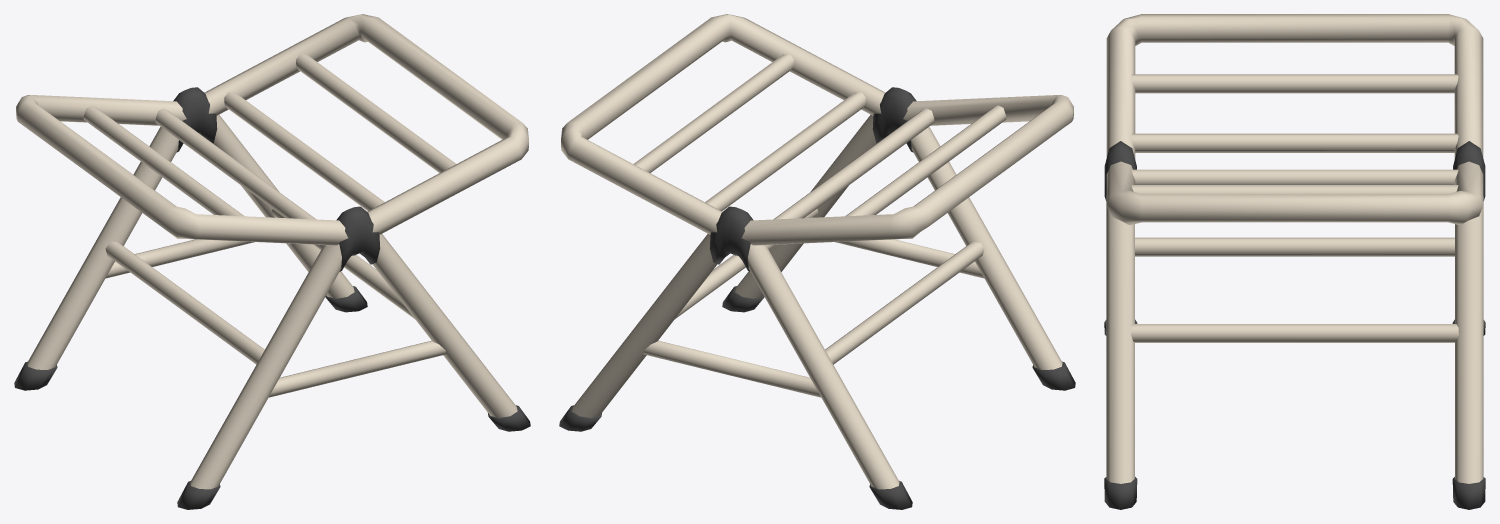
The model's file is MDL_DryingRack.fbx.
3 views of the same model, side by side, from view 1: azimuth 30°, elevation 25°; view 2: azimuth 150°, elevation 25°; view 3: azimuth 270°, elevation 25° (orthographic). The views are drawn at different scales.
Visible parts, largest first — view 1: Cylinder; view 2: Cylinder; view 3: Cylinder.
Part boxes in pixels (x1,y1,x2,y2): Cylinder: (14, 14, 530, 509); Cylinder: (559, 14, 1075, 509); Cylinder: (1104, 14, 1485, 509).
Bounding box in the file's own units: 156 × 119 × 131.
Materials: 1 (1 with a texture image).
